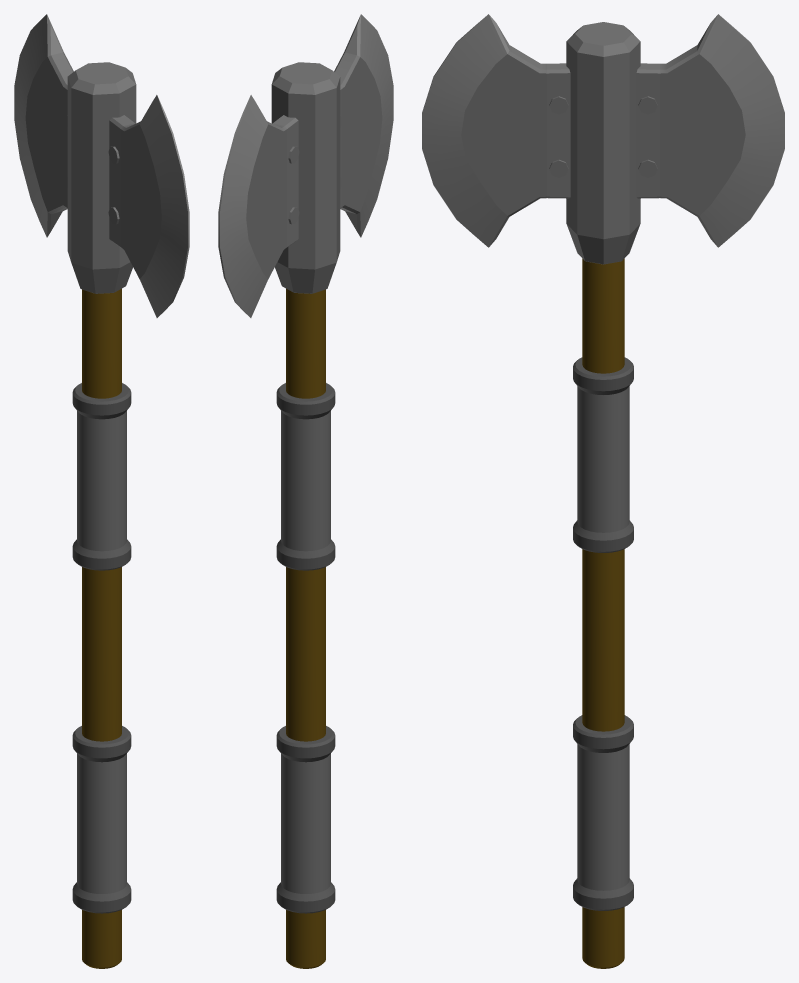
Rendered from NewAxe.fbx.
The picture shows the model from 3 angles, left to right: view 1: azimuth 30°, elevation 25°; view 2: azimuth 150°, elevation 25°; view 3: azimuth 270°, elevation 25°; orthographic projection. The views are drawn at different scales.
Visible parts, largest first — view 1: A.Head, A.Grip, A.Handle, A.Toe; view 2: A.Head, A.Grip, A.Handle, A.Toe; view 3: A.Head, A.Toe, A.Grip, A.Handle.
Boxes of the visible parts, bbox=[...] form: A.Head: bbox=[25, 52, 161, 293]; A.Grip: bbox=[72, 383, 131, 913]; A.Handle: bbox=[82, 288, 121, 968]; A.Toe: bbox=[14, 14, 189, 317]; A.Head: bbox=[246, 52, 382, 293]; A.Grip: bbox=[276, 383, 335, 913]; A.Handle: bbox=[286, 288, 325, 968]; A.Toe: bbox=[218, 14, 393, 317]; A.Head: bbox=[461, 22, 745, 264]; A.Toe: bbox=[422, 14, 784, 247]; A.Grip: bbox=[573, 357, 633, 910]; A.Handle: bbox=[582, 258, 624, 968].
Size of the model in its own units: 14.05 by 198 by 68.74.
